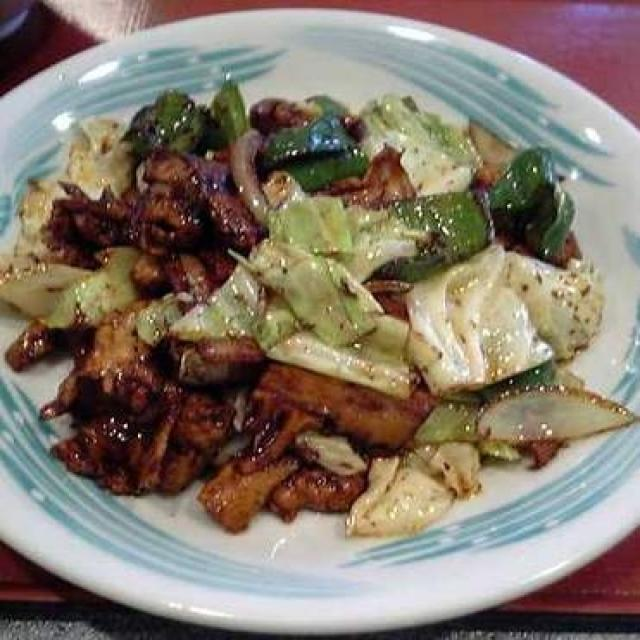猪肉菜式: (17, 64, 609, 568)
